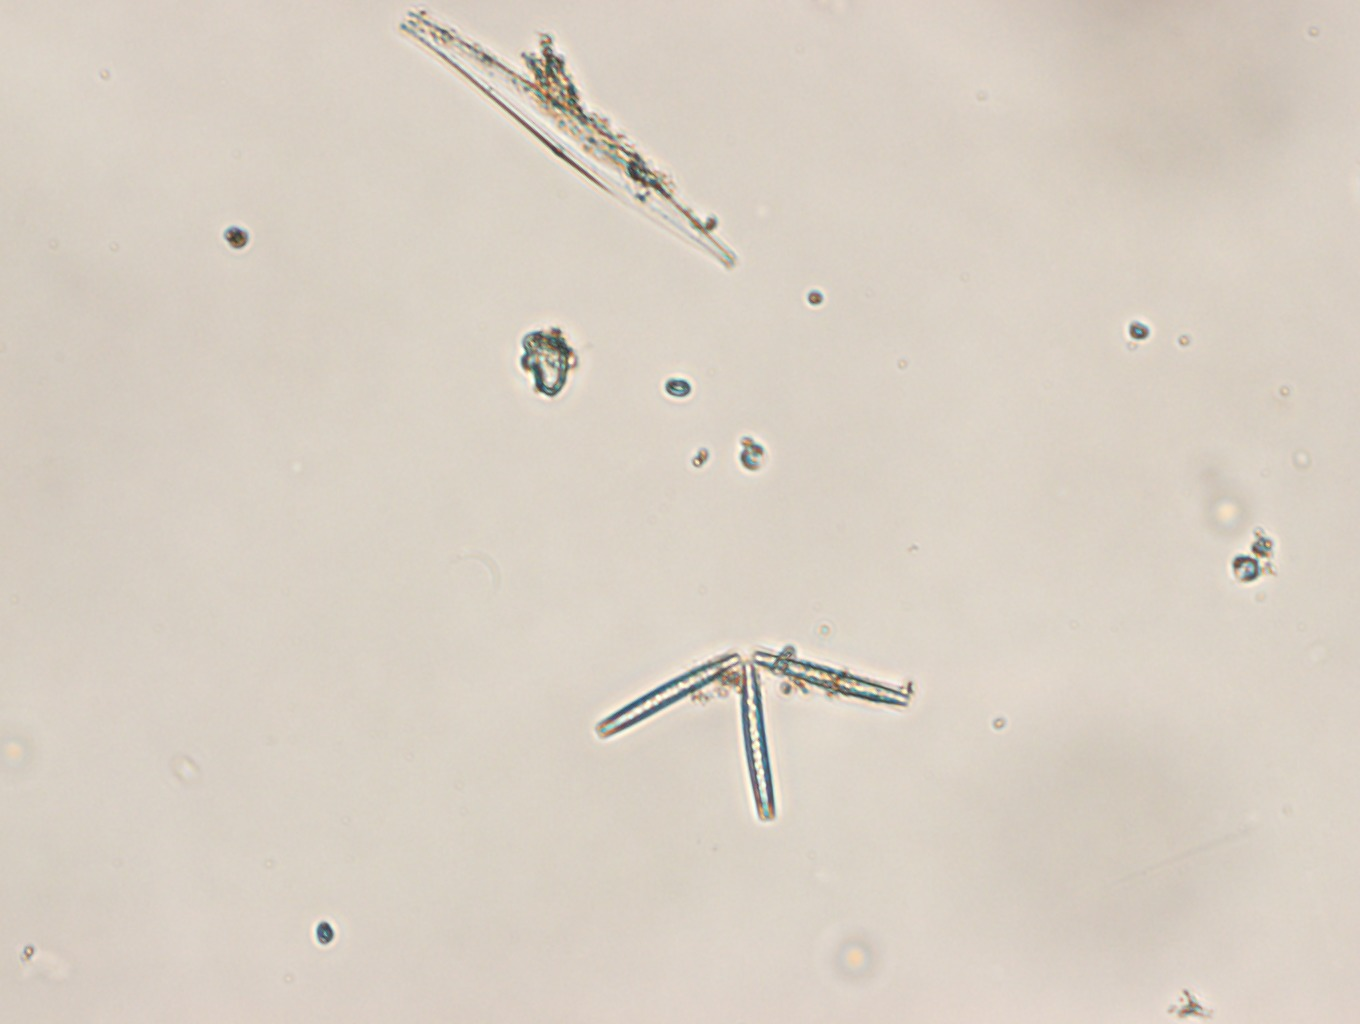thalassionema nitzschioides: (595, 651, 910, 820)
